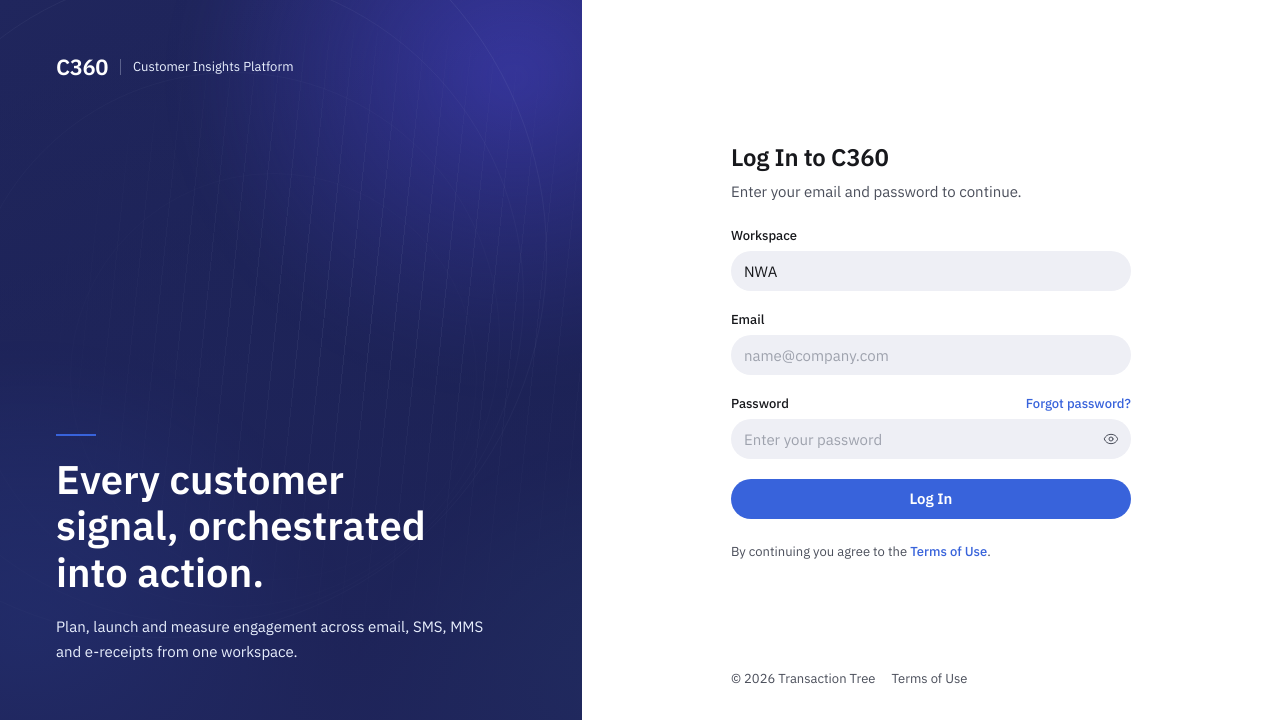
Test: anonymous visitors are sent to the login form, and a wrong password is explained
Check: the heading "Log In to C360" is shown, box [731, 141, 889, 173]
Type "aby.john@aiintelekt.com" into the field labelled "Email" at (931, 355), box [731, 335, 1131, 375]
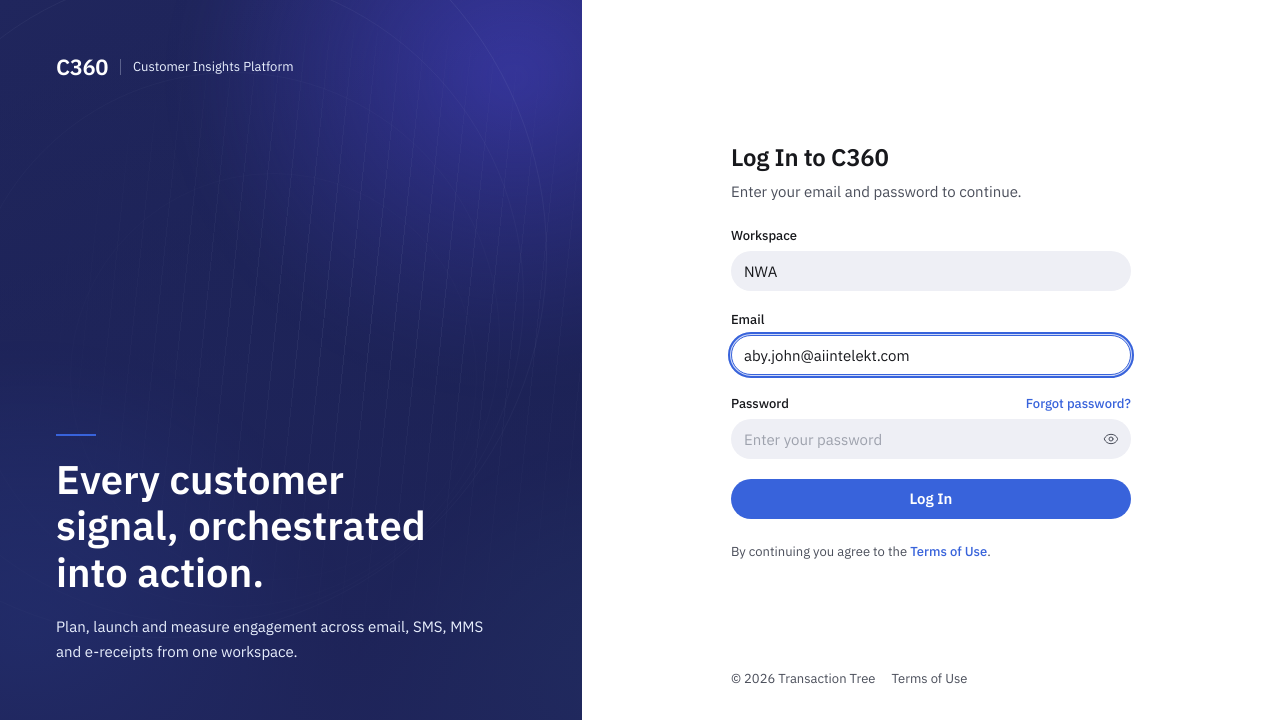
Type "nope" into the password field labelled "Password" at (931, 439), box [731, 419, 1131, 459]
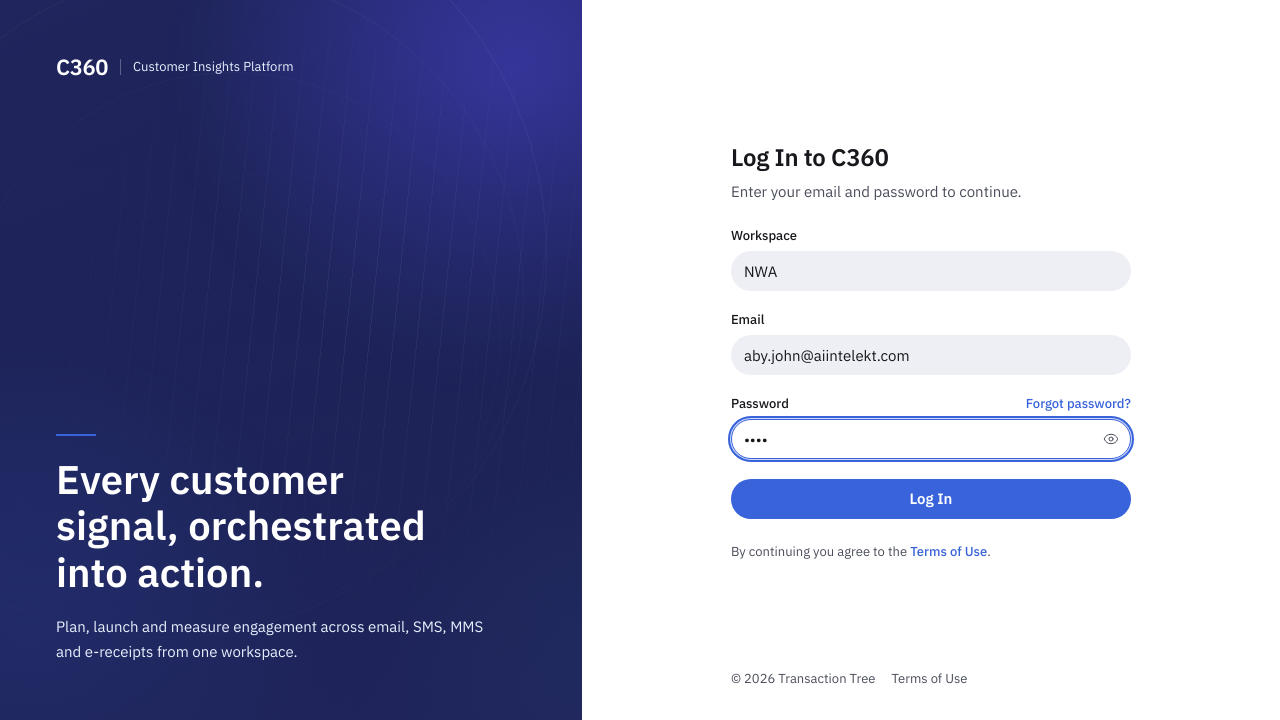
Click the button "Log In" at (931, 499), box [731, 479, 1131, 519]
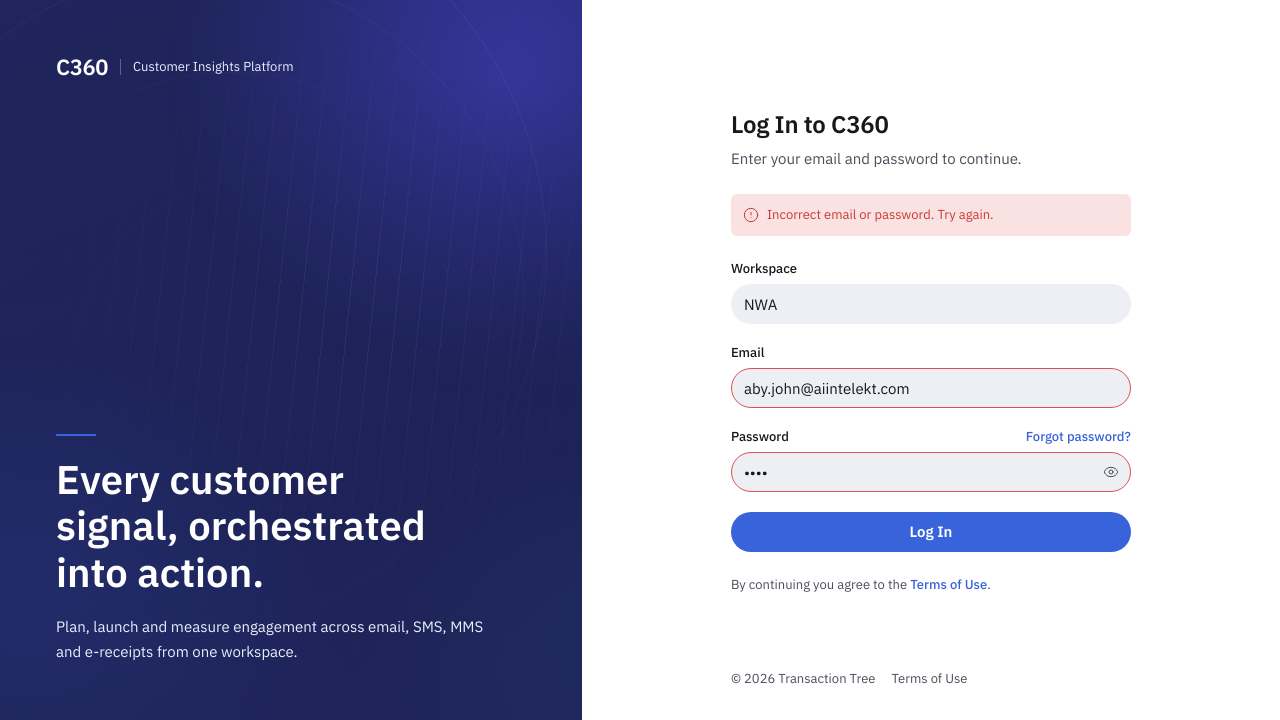
Check: the message shows "Incorrect email or password", box [767, 206, 994, 223]
